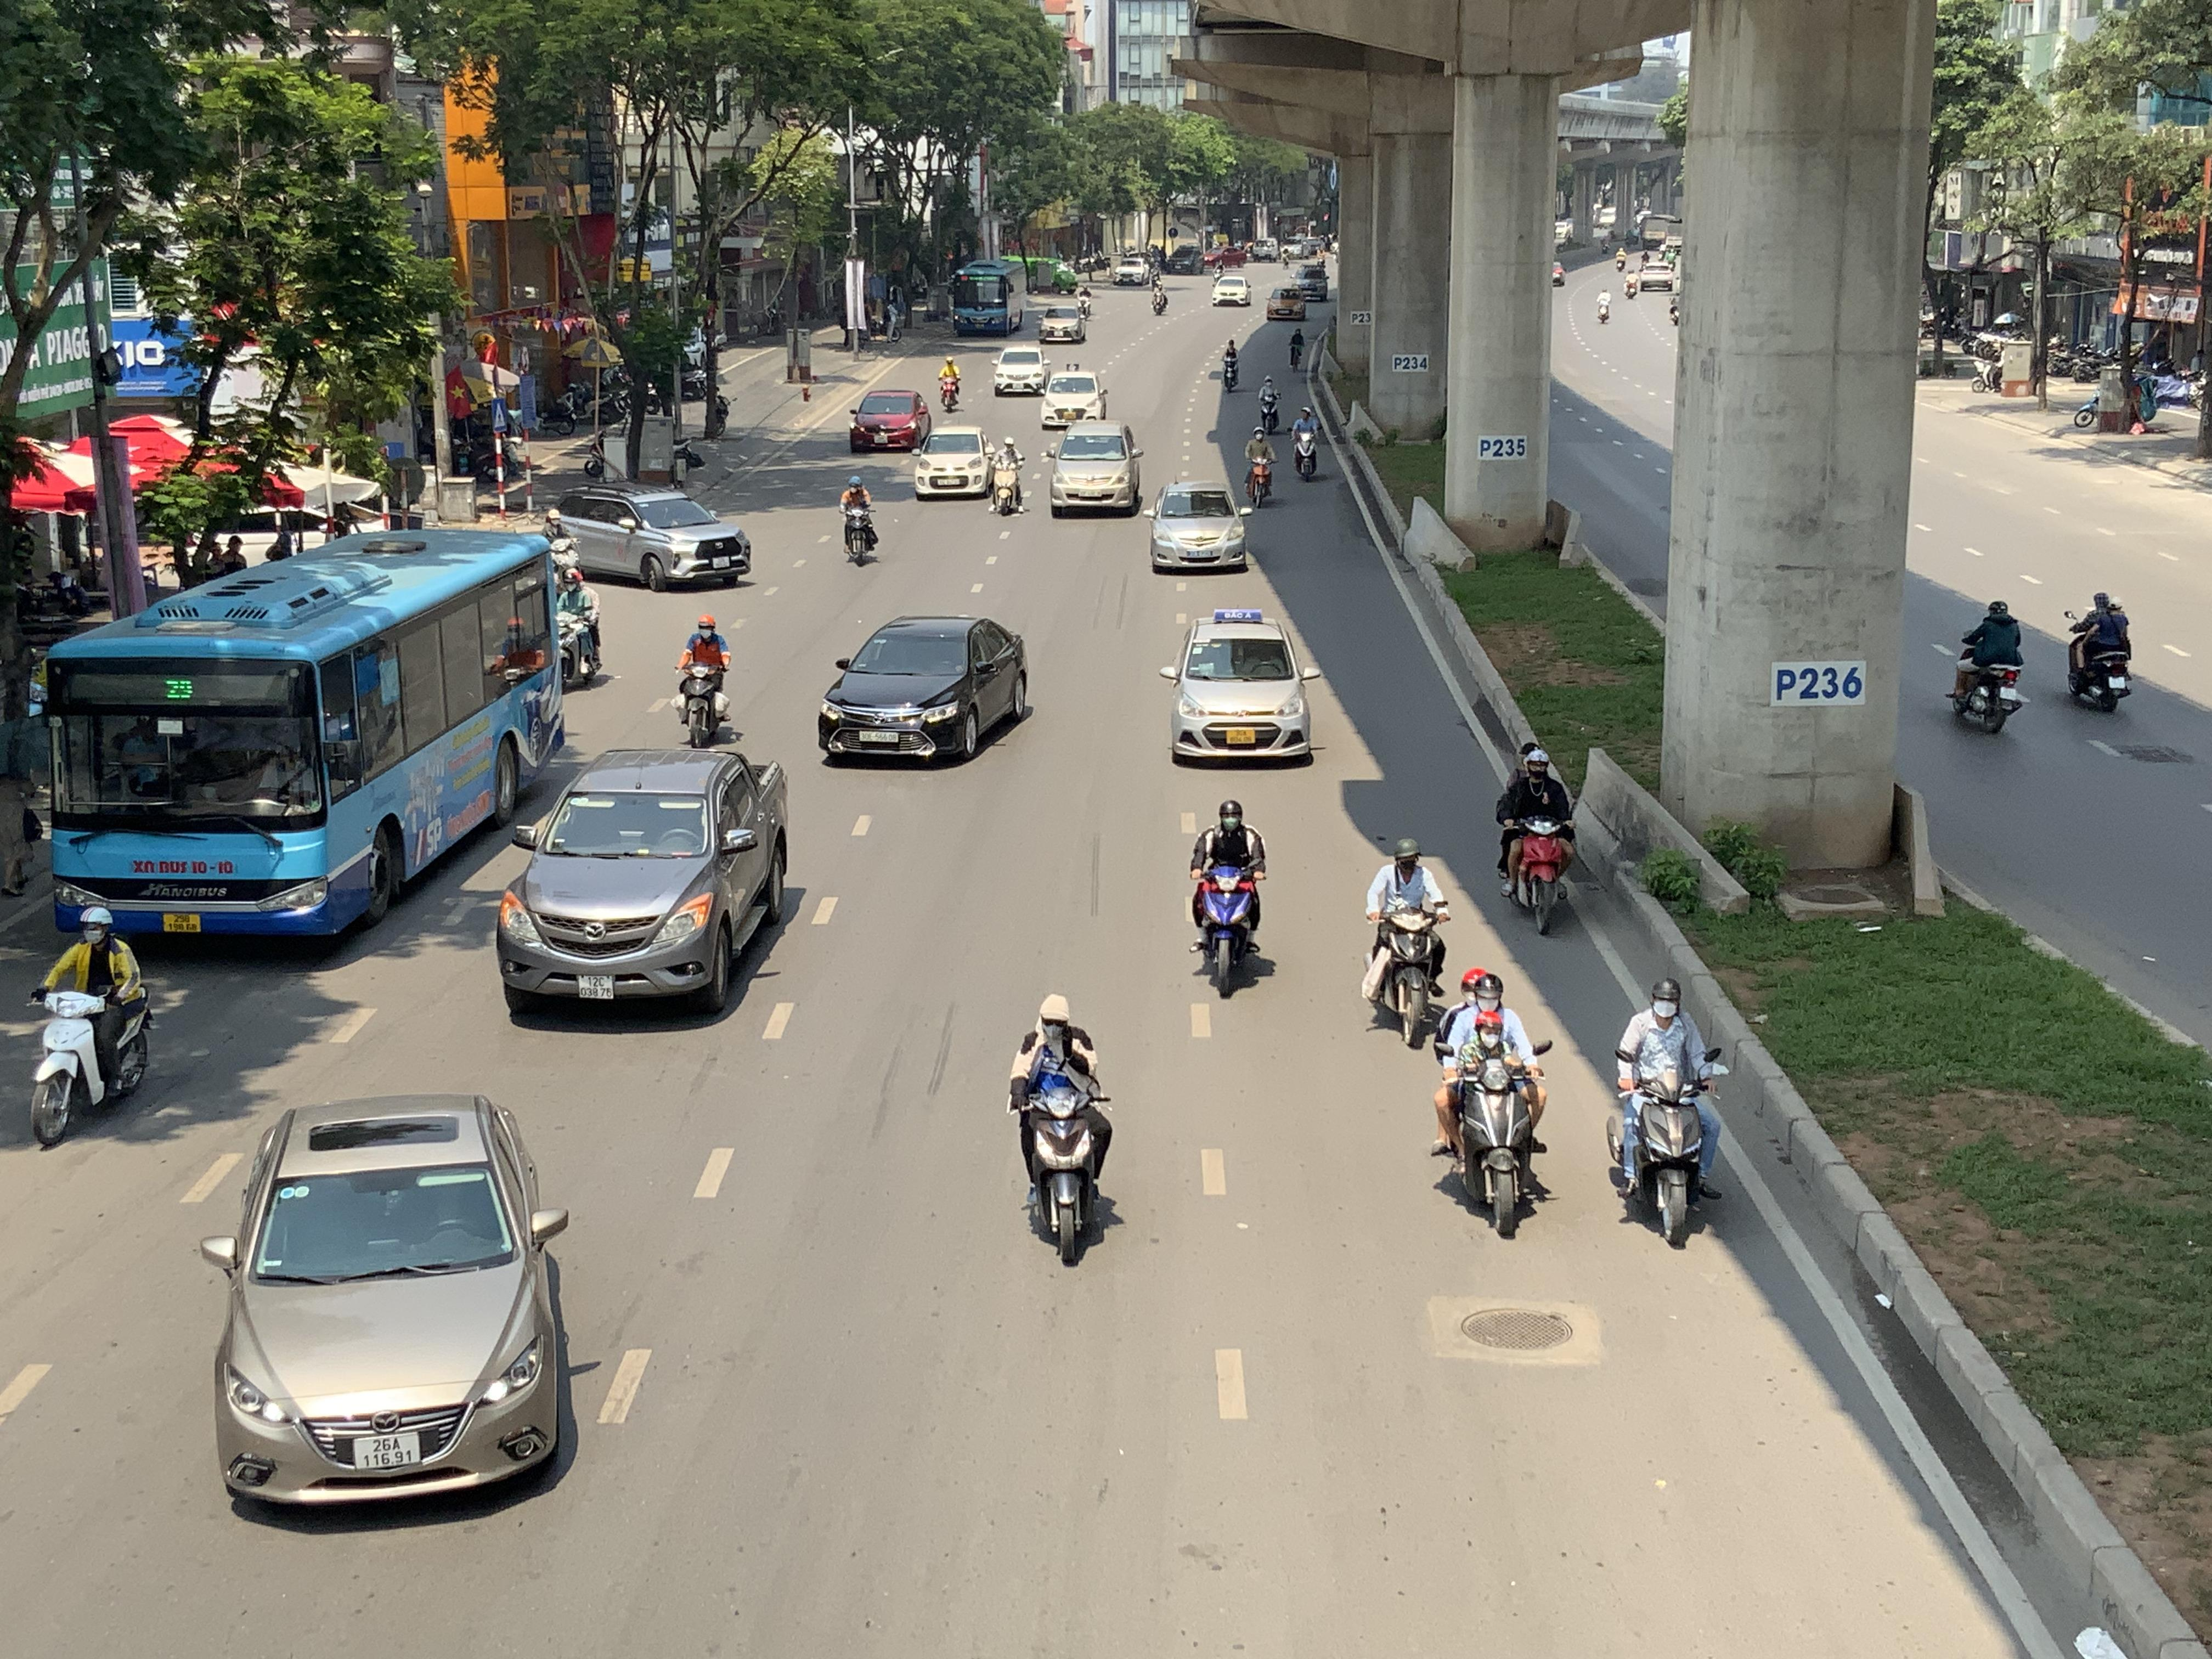BSD: (859, 730, 899, 742)
BSV: (354, 1431, 418, 1469), (578, 974, 615, 997), (162, 913, 200, 932), (1226, 728, 1256, 744), (2109, 676, 2128, 690)
bus: (38, 521, 570, 939), (951, 256, 1024, 336)
car: (199, 1093, 575, 1514), (496, 746, 792, 1019), (817, 613, 1033, 767), (1160, 608, 1317, 767), (545, 488, 752, 591), (1150, 481, 1251, 573), (1047, 422, 1144, 516), (911, 425, 1000, 498), (848, 387, 932, 453), (1040, 368, 1108, 429), (991, 345, 1052, 396), (1036, 298, 1087, 343)
motorbike: (1608, 978, 1728, 1251), (1433, 965, 1550, 1241), (26, 903, 155, 1148), (1010, 993, 1118, 1269), (1362, 836, 1451, 1047), (1188, 796, 1270, 999), (1494, 742, 1578, 936), (1947, 596, 2026, 735), (2064, 589, 2134, 713), (674, 613, 735, 748), (556, 568, 604, 690), (2071, 366, 2158, 434), (840, 477, 878, 566), (986, 436, 1028, 516), (1242, 427, 1278, 507), (1291, 403, 1324, 483), (1254, 373, 1282, 437), (937, 356, 963, 415)
